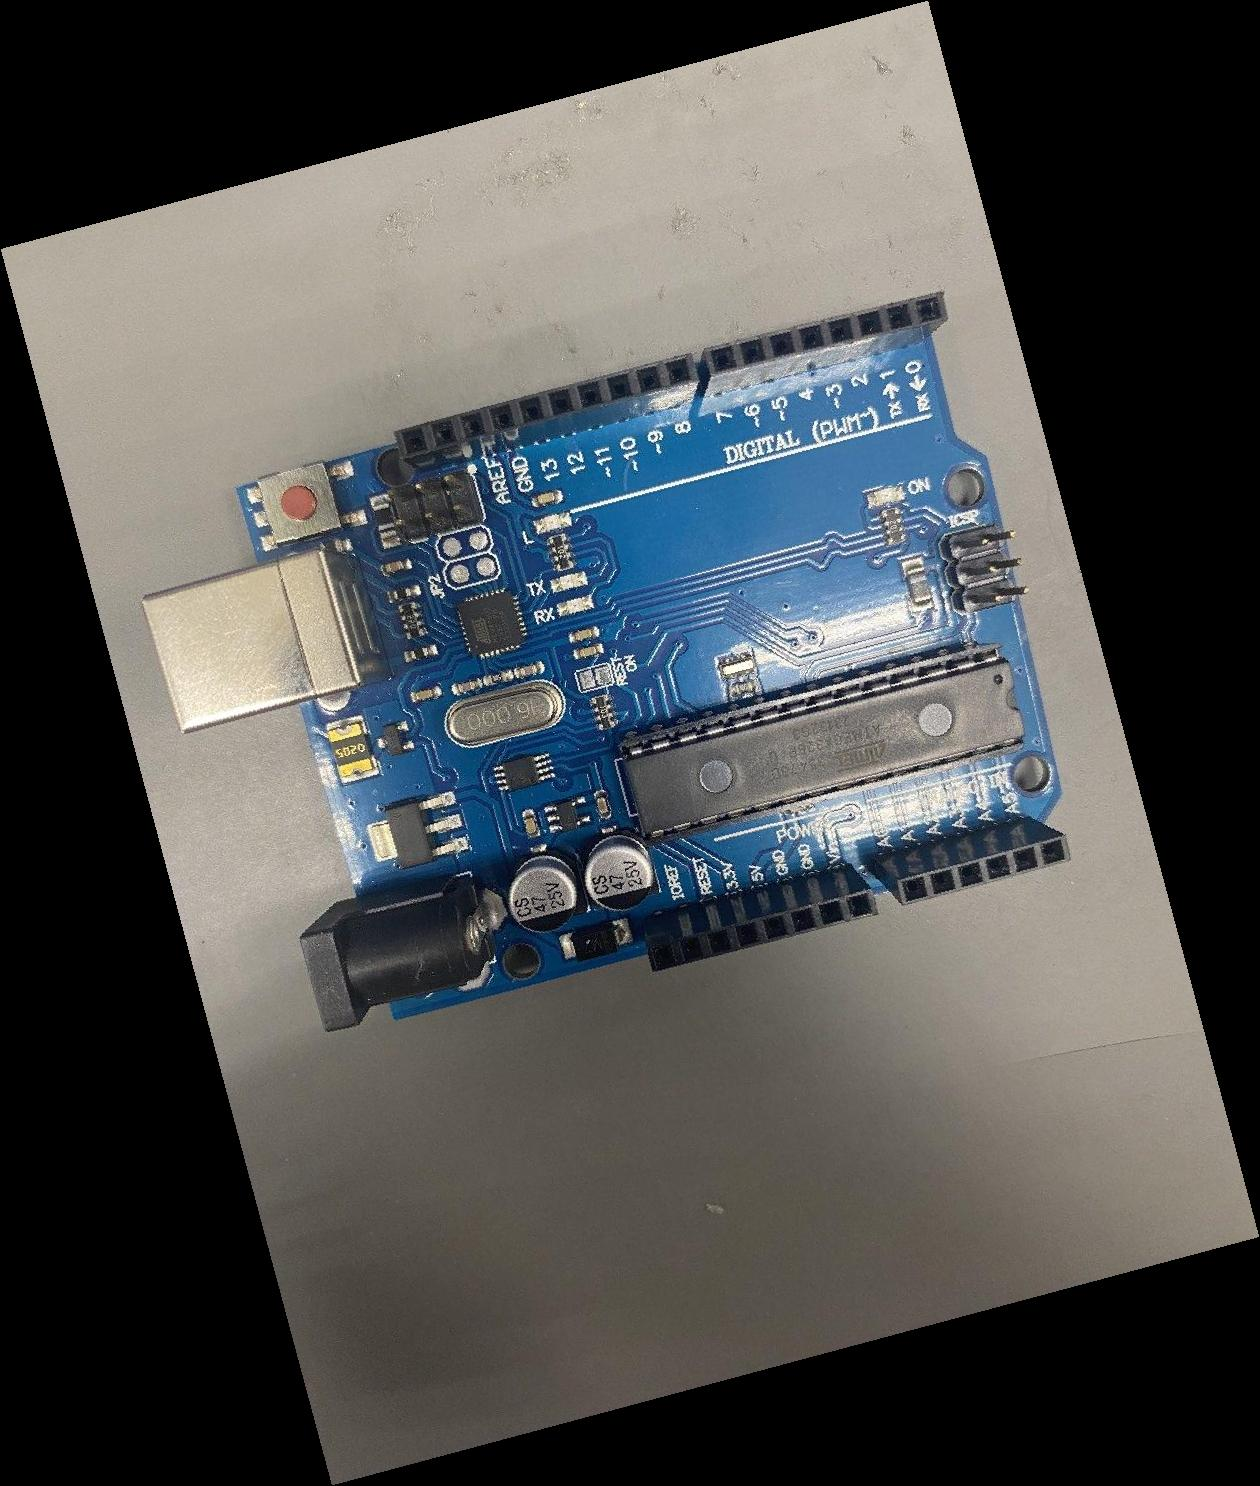ATmega328 chip: (620, 642, 1026, 846)
Arduino board: (141, 291, 1071, 1032)
USB: (141, 547, 392, 735)
capacitor: (507, 855, 579, 932), (584, 834, 654, 911)
pins: (392, 352, 699, 474), (697, 291, 947, 397), (642, 864, 879, 972), (871, 816, 1071, 906)
resistor: (397, 601, 427, 641), (547, 532, 576, 572), (590, 694, 619, 731), (881, 506, 907, 546)
